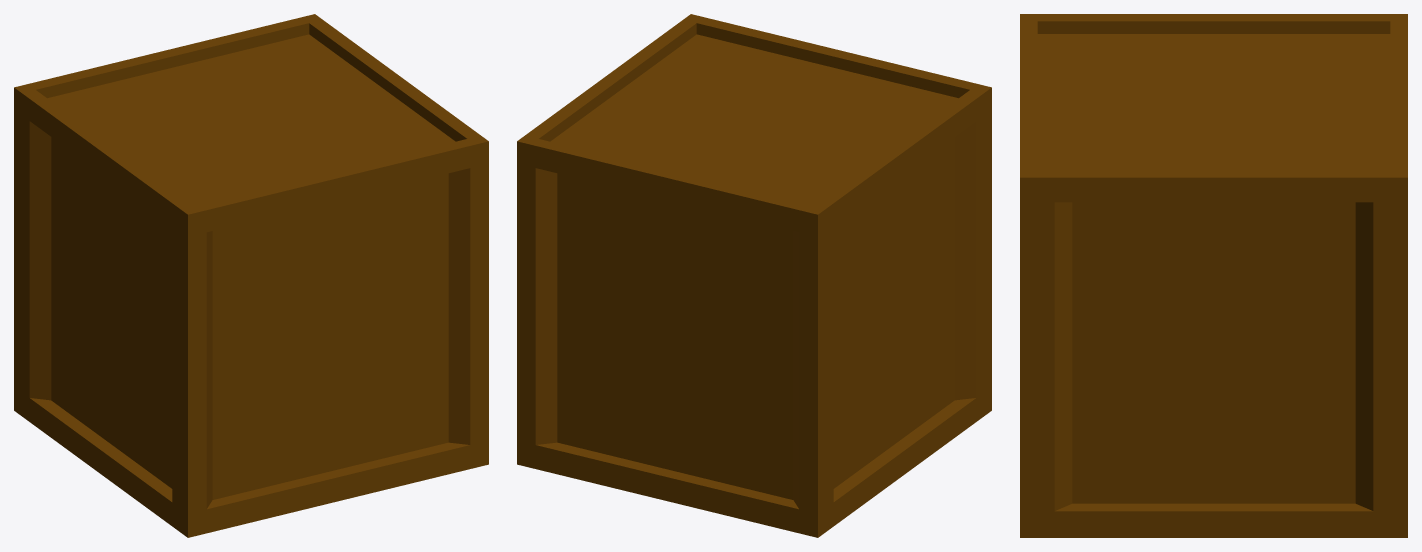
The picture shows the model from 3 angles, left to right: view 1: azimuth 30°, elevation 25°; view 2: azimuth 150°, elevation 25°; view 3: azimuth 270°, elevation 25°; orthographic projection. The views are drawn at different scales.
Parts seen in each view (by area): view 1: Cube.001; view 2: Cube.001; view 3: Cube.001.
Part boxes in pixels (x1=…): Cube.001: x1=14, y1=14, x2=488, y2=537; Cube.001: x1=517, y1=14, x2=991, y2=537; Cube.001: x1=1020, y1=14, x2=1407, y2=537.
Bounding box in the file's own units: 1.95 × 2 × 1.95.
